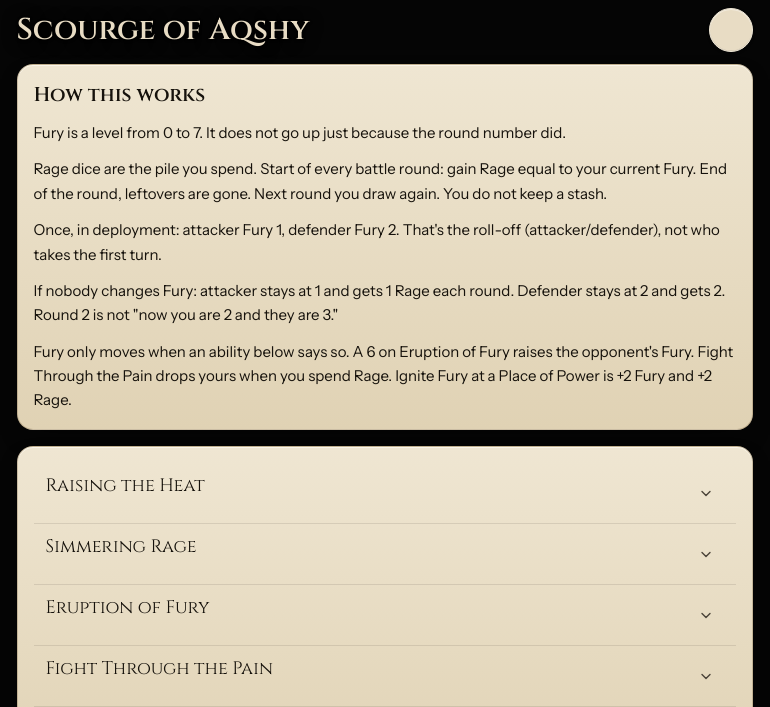
Test: CoreRulesScreen › hides the Scourge title behind the field too
Click the button named "Search rules". click: x=730, y=30
box: top-left (708, 8), bottom-right (752, 52)
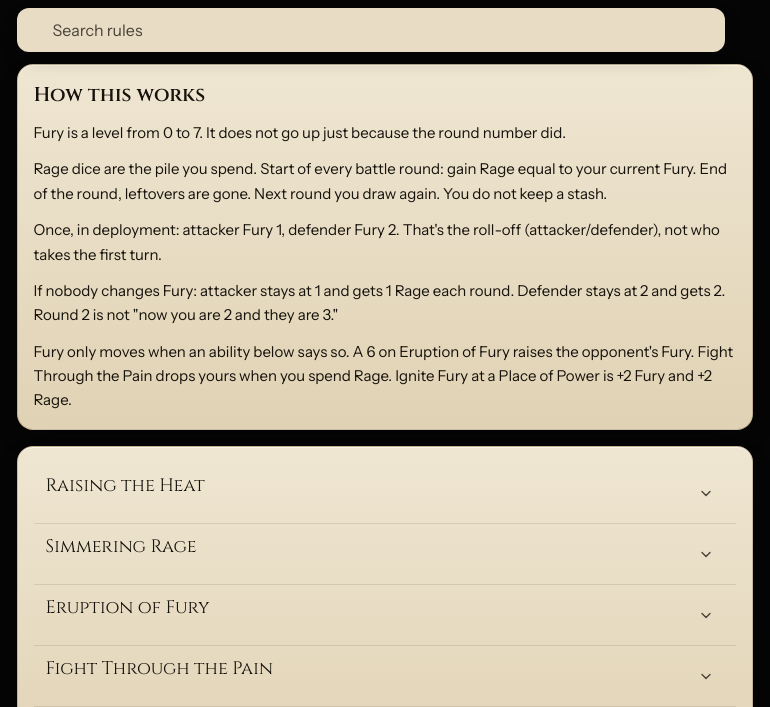
Now the heading "Scourge of Aqshy" is gone
Now the search field labelled "Search rules" is shown, box top-left (16, 8), bottom-right (724, 52)
